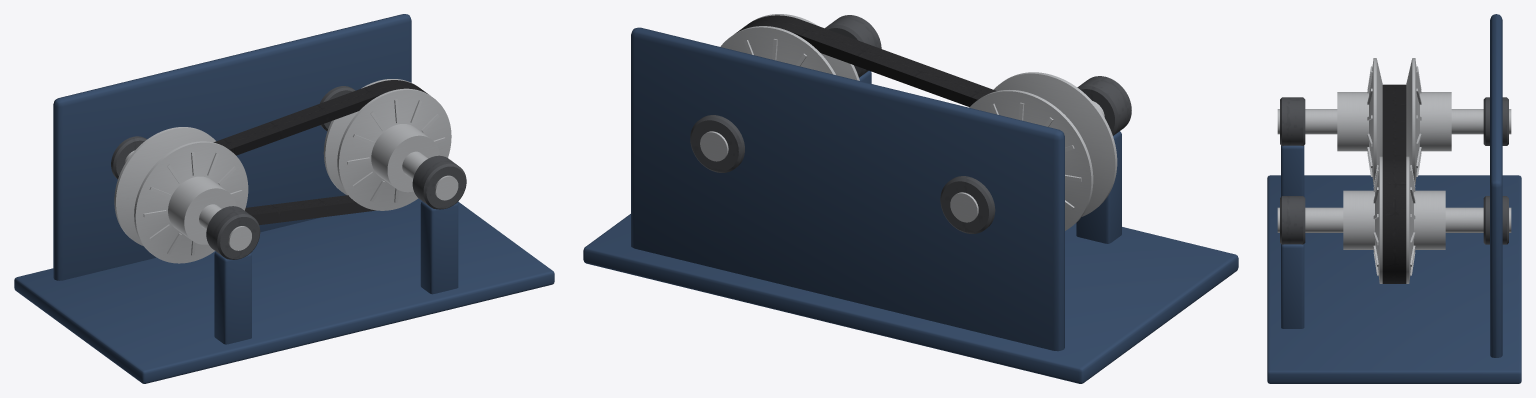
File: belt-cvt-variable-sheave-pulleys-low-ratio-d091e05e.glb
The picture shows the model from 3 angles, left to right: view 1: azimuth 30°, elevation 25°; view 2: azimuth 150°, elevation 25°; view 3: azimuth 270°, elevation 25°; orthographic projection. The views are drawn at different scales.
Parts seen in each view (by area): view 1: Base, back plate and pedestals, Drive and driven variable sheaves, shafts, V-belt, Bearing housings; view 2: Base, back plate and pedestals, Drive and driven variable sheaves, shafts, Bearing housings, V-belt; view 3: Base, back plate and pedestals, Drive and driven variable sheaves, shafts, V-belt, Bearing housings.
Boxes of the visible parts, x1=… form: Base, back plate and pedestals: x1=14, y1=14, x2=554, y2=383; Drive and driven variable sheaves, shafts: x1=114, y1=79, x2=458, y2=263; V-belt: x1=213, y1=80, x2=428, y2=224; Bearing housings: x1=111, y1=86, x2=466, y2=259; Base, back plate and pedestals: x1=583, y1=27, x2=1238, y2=383; Drive and driven variable sheaves, shafts: x1=700, y1=14, x2=1117, y2=230; Bearing housings: x1=690, y1=15, x2=1131, y2=233; V-belt: x1=735, y1=15, x2=996, y2=106; Base, back plate and pedestals: x1=1267, y1=14, x2=1521, y2=383; Drive and driven variable sheaves, shafts: x1=1277, y1=58, x2=1511, y2=283; V-belt: x1=1382, y1=84, x2=1406, y2=283; Bearing housings: x1=1280, y1=97, x2=1508, y2=244.
Bounding box in the file's own units: 0.44 × 0.197 × 0.24.
4 materials, 4 textured.
